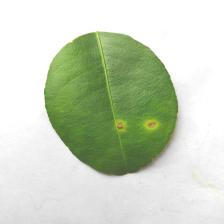canker: (85, 74, 165, 148)
